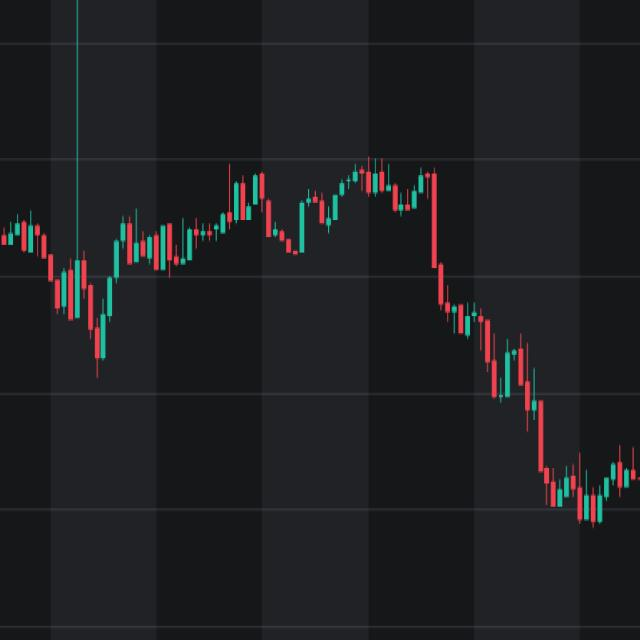Support-breakout: (306, 151, 640, 538)
